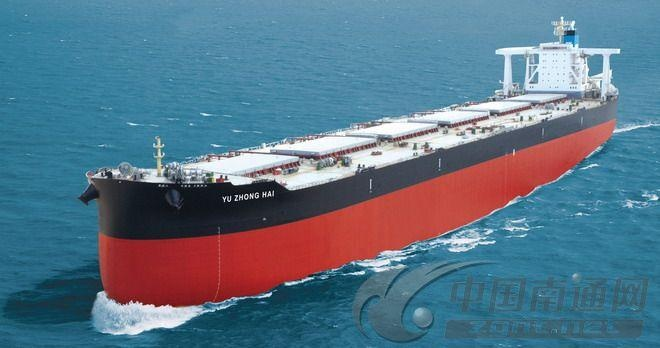Cargoship: (78, 13, 621, 310)
